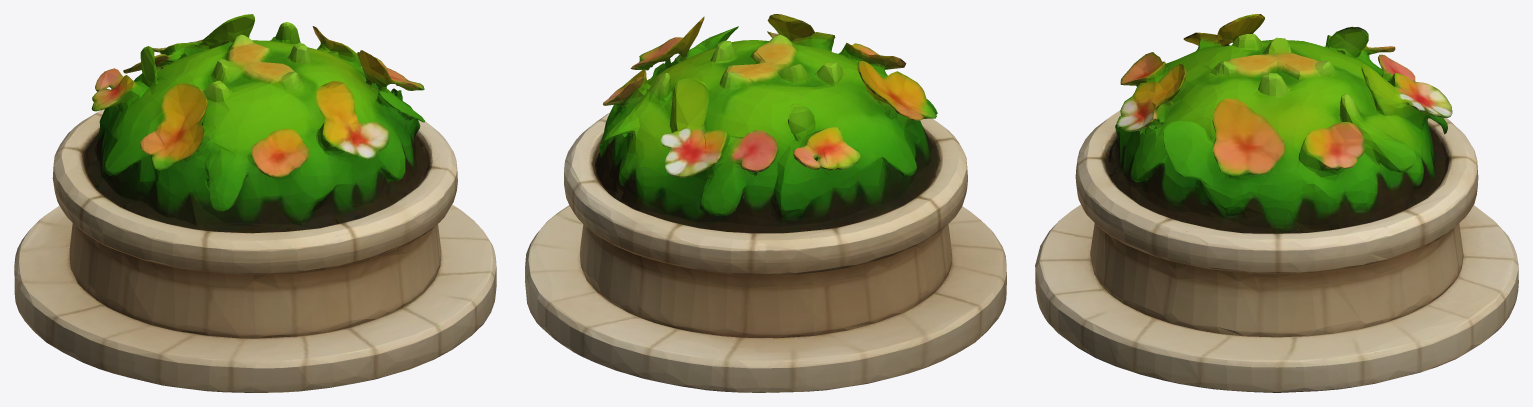
File: round_flower_bed.glb
3 renders of one model, left to right at view 1: azimuth 30°, elevation 25°; view 2: azimuth 150°, elevation 25°; view 3: azimuth 270°, elevation 25°, orthographic.
Parts seen in each view (by area): view 1: geometry_0; view 2: geometry_0; view 3: geometry_0.
Boxes of the visible parts, x1,y1,x2,y2 form: geometry_0: [14, 14, 496, 392]; geometry_0: [525, 14, 1006, 392]; geometry_0: [1035, 14, 1518, 392].
Bounding box in the file's own units: 0.9988 × 0.5428 × 0.9987.
1 material, 1 textured.
